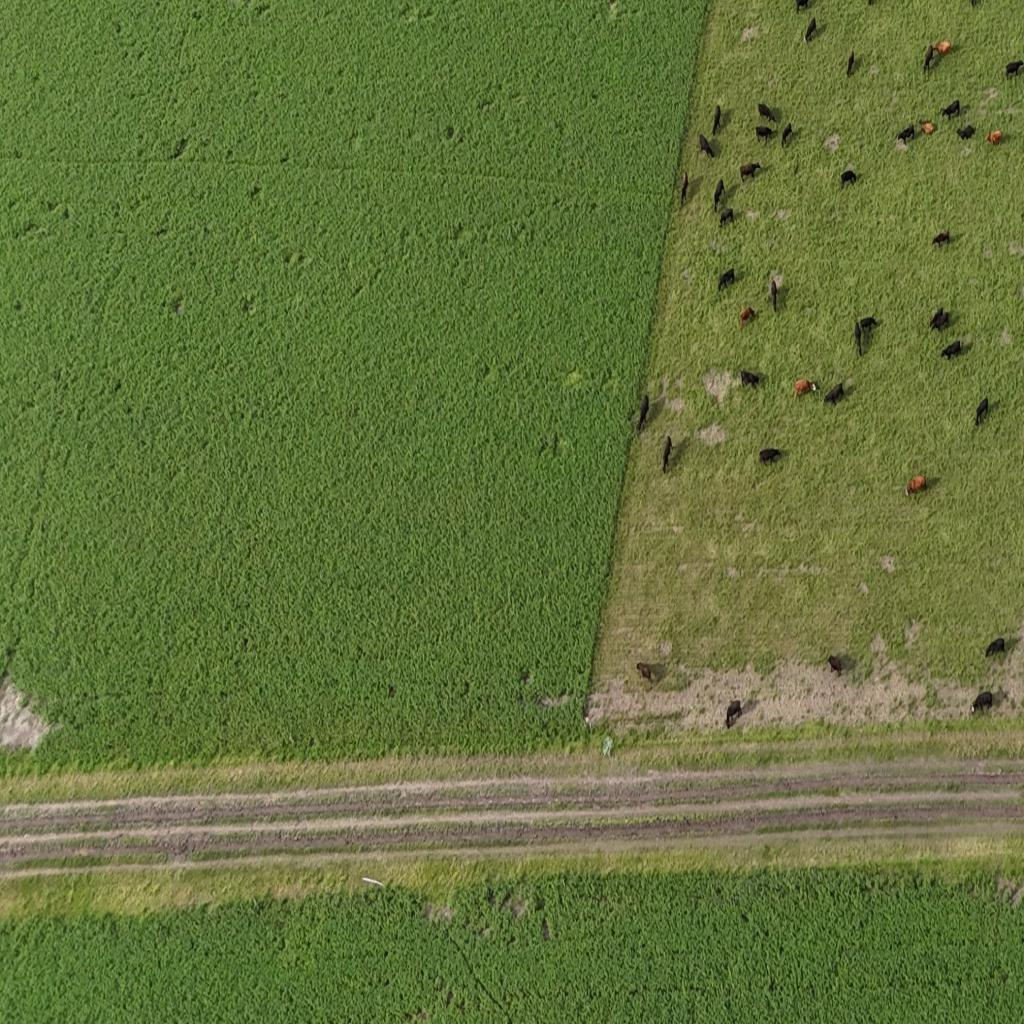cow: (970, 692, 992, 716), (930, 308, 950, 332), (905, 475, 926, 497), (824, 383, 844, 406), (637, 395, 649, 433), (726, 700, 742, 728), (940, 99, 960, 120), (794, 379, 816, 398), (758, 102, 776, 125), (974, 398, 988, 427), (986, 638, 1006, 658), (740, 162, 760, 182), (759, 448, 781, 466), (940, 342, 962, 360), (662, 435, 672, 474), (699, 134, 715, 158), (740, 370, 760, 389), (858, 316, 879, 334), (718, 268, 734, 291), (1004, 60, 1023, 79), (896, 124, 914, 144), (755, 125, 775, 143), (637, 663, 653, 685), (714, 178, 724, 212), (924, 44, 935, 74), (932, 230, 950, 248), (804, 17, 816, 44), (781, 122, 793, 148), (828, 655, 842, 677), (933, 40, 952, 56), (854, 319, 862, 357), (918, 119, 935, 136), (841, 170, 857, 188), (957, 125, 975, 141), (712, 104, 721, 136), (680, 170, 688, 206), (720, 208, 734, 228), (740, 307, 756, 324), (985, 130, 1002, 146), (770, 278, 778, 312), (846, 50, 854, 76), (795, 0, 810, 13)
